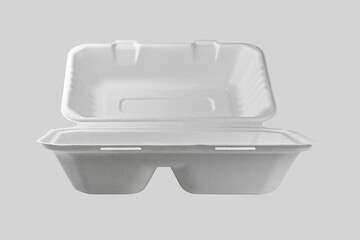styrofoam: (34, 40, 314, 196)
